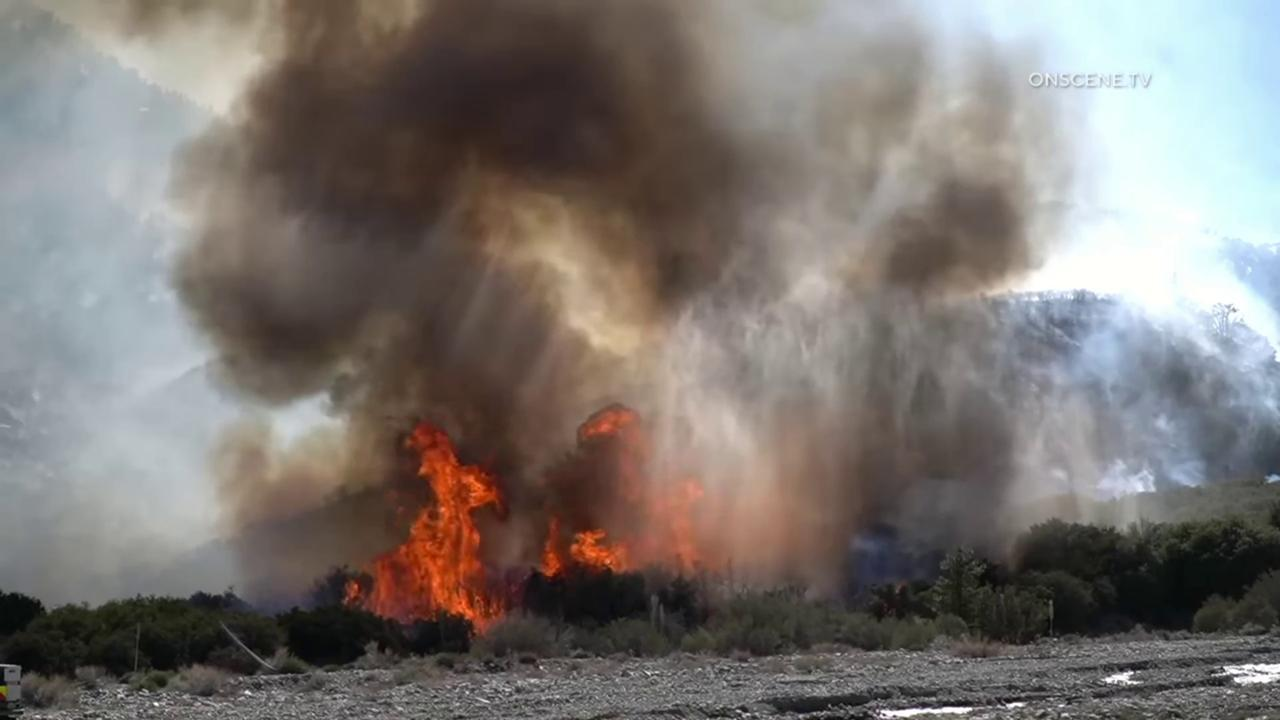fire: (341, 421, 508, 637), (569, 404, 705, 575), (538, 516, 561, 579)
smoke: (0, 0, 1280, 610)
